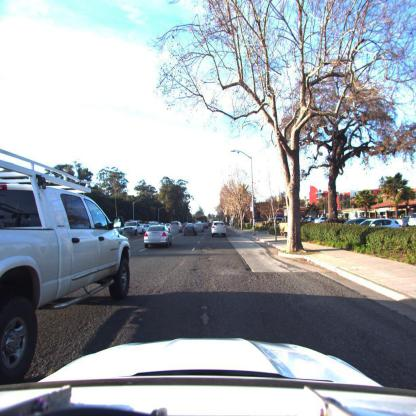car: (0, 337, 416, 416), (144, 225, 173, 250), (346, 218, 404, 229), (123, 222, 142, 237), (211, 221, 226, 236), (183, 223, 198, 235), (194, 222, 206, 234), (171, 221, 181, 233), (314, 217, 328, 224), (202, 222, 210, 230)
truck: (1, 140, 134, 388)
